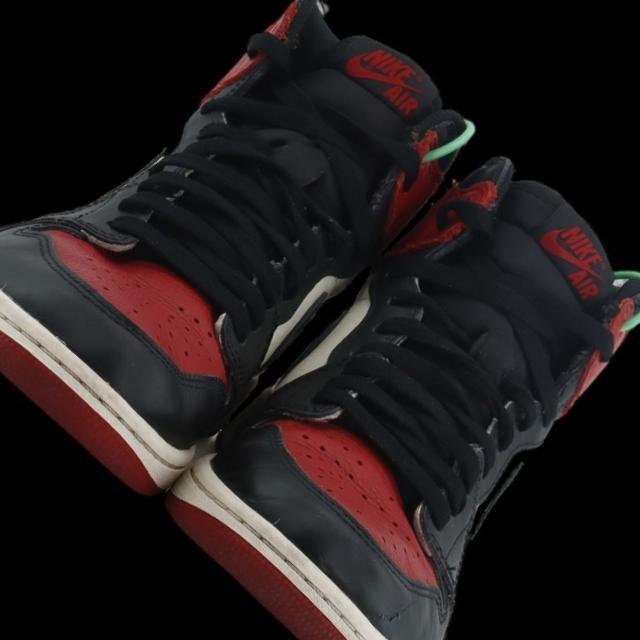nike original jordan 1: (0, 0, 503, 506), (152, 119, 640, 640)
